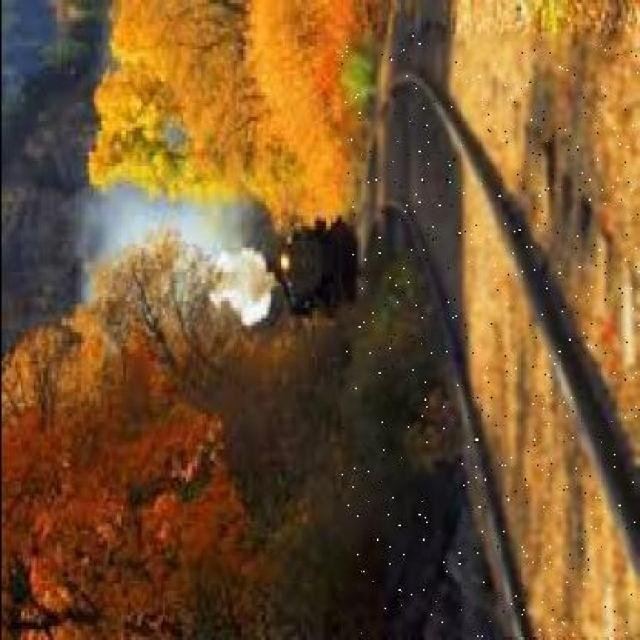rail: (342, 36, 639, 637)
